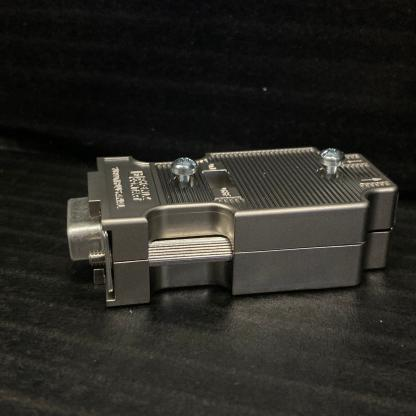SP0000010: (30, 90, 416, 333)
